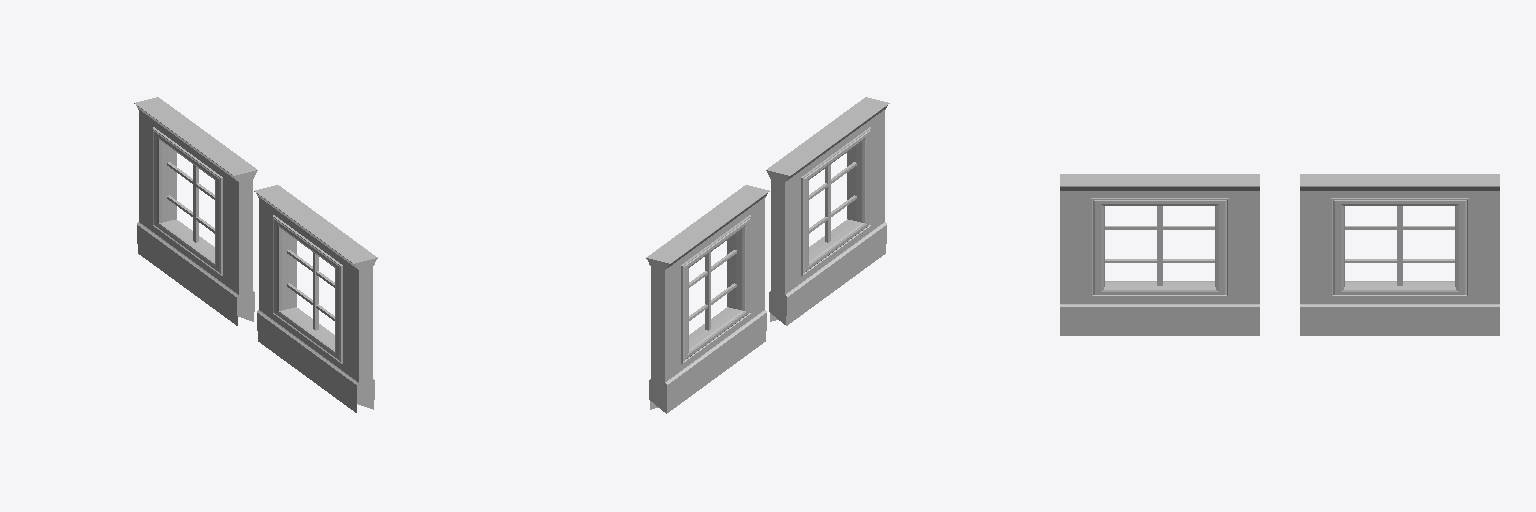
The model's file is garage_window.obj.
3 views of the same model, side by side, from view 1: azimuth 30°, elevation 25°; view 2: azimuth 150°, elevation 25°; view 3: azimuth 270°, elevation 25° (orthographic).
Parts seen in each view (by area): view 1: Office_Window_3M_Small, Office_Window_3M_Small.002; view 2: Office_Window_3M_Small.002, Office_Window_3M_Small; view 3: Office_Window_3M_Small, Office_Window_3M_Small.002.
Boxes of the visible parts, <box> form: Office_Window_3M_Small: <box>134,97,257,325</box>; Office_Window_3M_Small.002: <box>254,185,377,412</box>; Office_Window_3M_Small.002: <box>766,97,889,325</box>; Office_Window_3M_Small: <box>646,185,769,413</box>; Office_Window_3M_Small: <box>1300,174,1499,335</box>; Office_Window_3M_Small.002: <box>1060,174,1259,335</box>.
Size of the model in its own units: 0.3414 by 2.02 by 5.33.